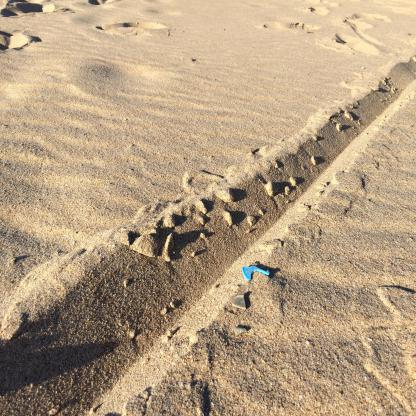plastik: (243, 266, 271, 282)
